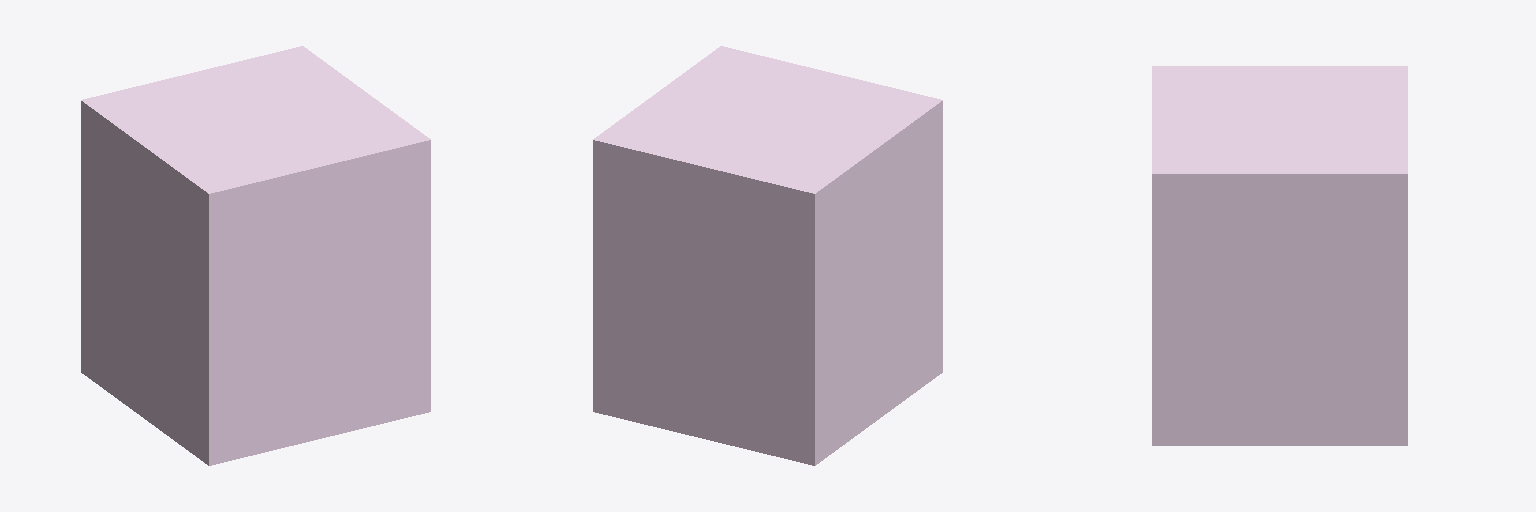
3 renders of one model, left to right at view 1: azimuth 30°, elevation 25°; view 2: azimuth 150°, elevation 25°; view 3: azimuth 270°, elevation 25°, orthographic.
Parts seen in each view (by area): view 1: 立方体.001; view 2: 立方体.001; view 3: 立方体.001.
Boxes of the visible parts, box(x1,y1,x2,y2) form: 立方体.001: box(81, 46, 430, 465); 立方体.001: box(593, 46, 942, 465); 立方体.001: box(1152, 66, 1407, 445).
Size of the model in its own units: 0.6 by 0.7017 by 0.6.
Materials: 1 (1 with a texture image).